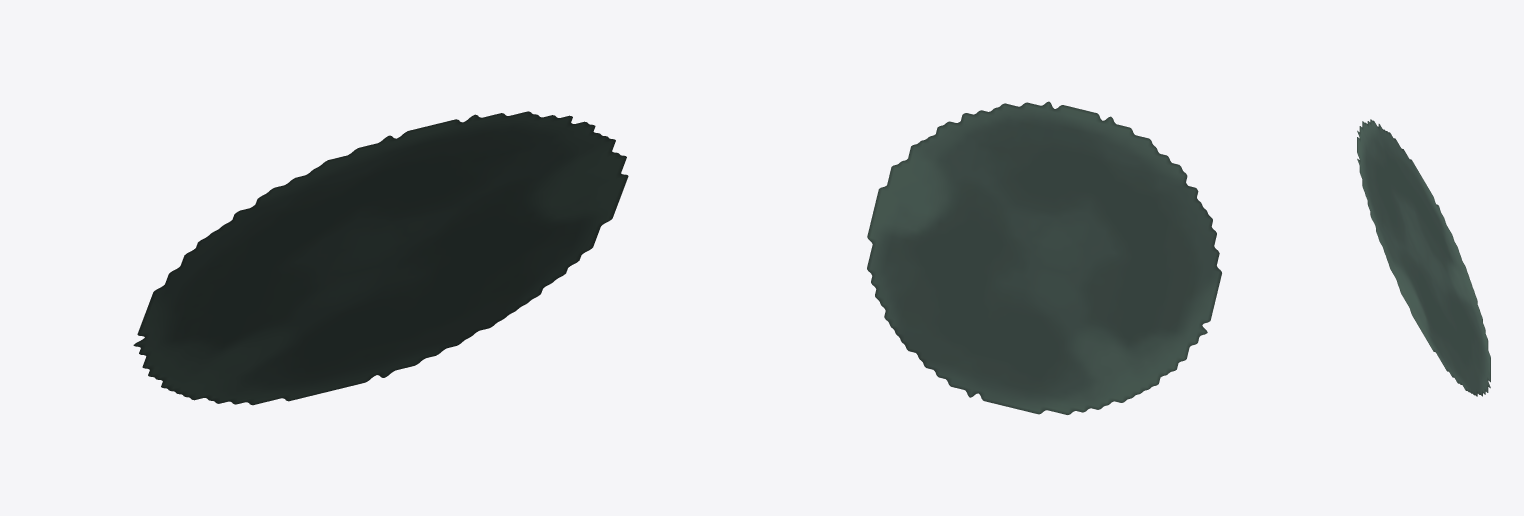
File: billboards.glb
3 renders of one model, left to right at view 1: azimuth 30°, elevation 25°; view 2: azimuth 150°, elevation 25°; view 3: azimuth 270°, elevation 25°, orthographic. The views are drawn at different scales.
Visible parts, largest first — view 1: rsrc.world.tileset.clockworks_poison.billboards-Submesh[0]; view 2: rsrc.world.tileset.clockworks_poison.billboards-Submesh[0]; view 3: rsrc.world.tileset.clockworks_poison.billboards-Submesh[0].
Boxes of the visible parts, <box> form: rsrc.world.tileset.clockworks_poison.billboards-Submesh[0]: <box>133,111,628,405</box>; rsrc.world.tileset.clockworks_poison.billboards-Submesh[0]: <box>867,101,1221,414</box>; rsrc.world.tileset.clockworks_poison.billboards-Submesh[0]: <box>1357,119,1490,396</box>.
Size of the model in its own units: 0.2927 by 0.1995 by 0.1067.
1 material, 1 textured.
